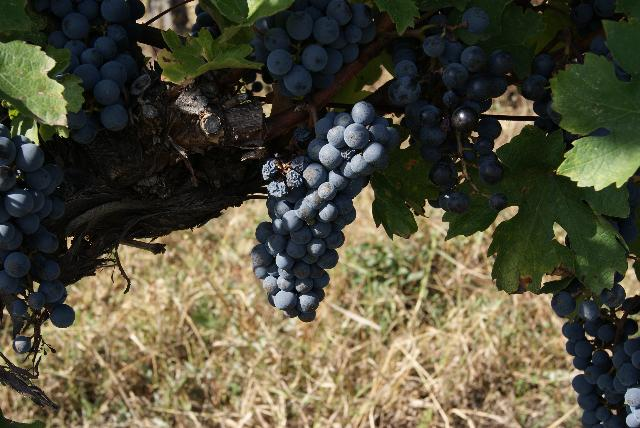grapes: (251, 101, 399, 321), (389, 6, 515, 239), (0, 124, 75, 328), (581, 210, 625, 275)
